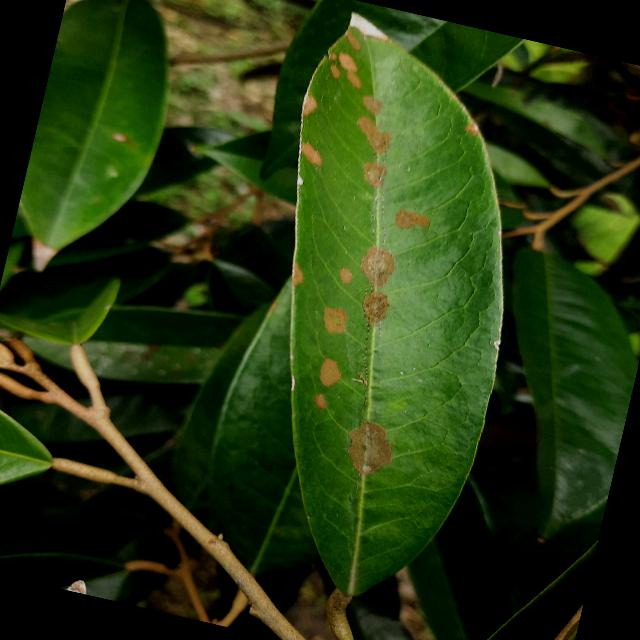Algal Leaf Spot: (192, 1, 576, 615)
